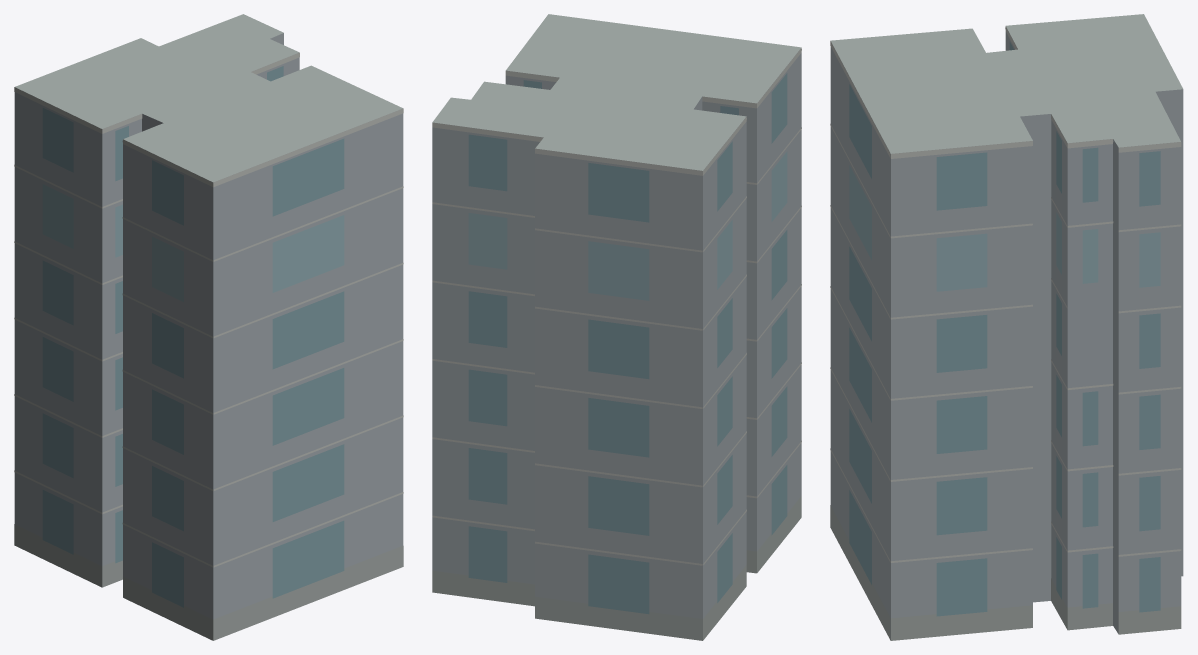
Rendered from survey-upis-32990999.glb.
3 renders of one model, left to right at view 1: azimuth 30°, elevation 25°; view 2: azimuth 150°, elevation 25°; view 3: azimuth 270°, elevation 25°, orthographic. The views are drawn at different scales.
Visible parts, largest first — view 1: survey-upis-32990999.tmp; view 2: survey-upis-32990999.tmp; view 3: survey-upis-32990999.tmp.
Boxes of the visible parts, left/top/right/bottom form: survey-upis-32990999.tmp: left=14, top=14, right=403, bottom=640; survey-upis-32990999.tmp: left=432, top=14, right=801, bottom=640; survey-upis-32990999.tmp: left=830, top=14, right=1183, bottom=640.
Size of the model in its own units: 14.07 by 22.8 by 15.
